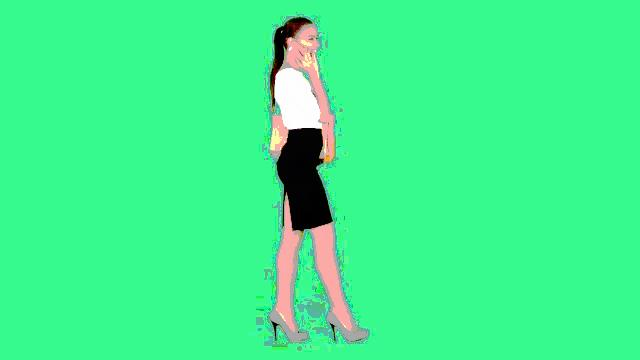berjalan: (268, 15, 370, 348)
